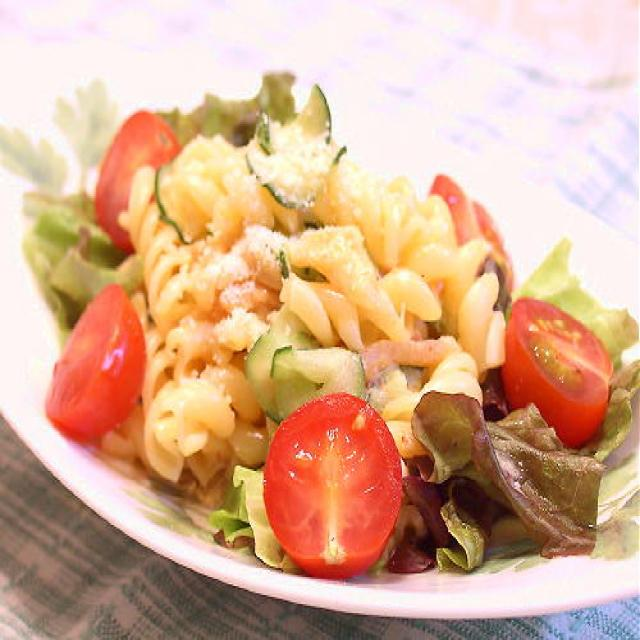蔬菜料理: (0, 41, 640, 622)
